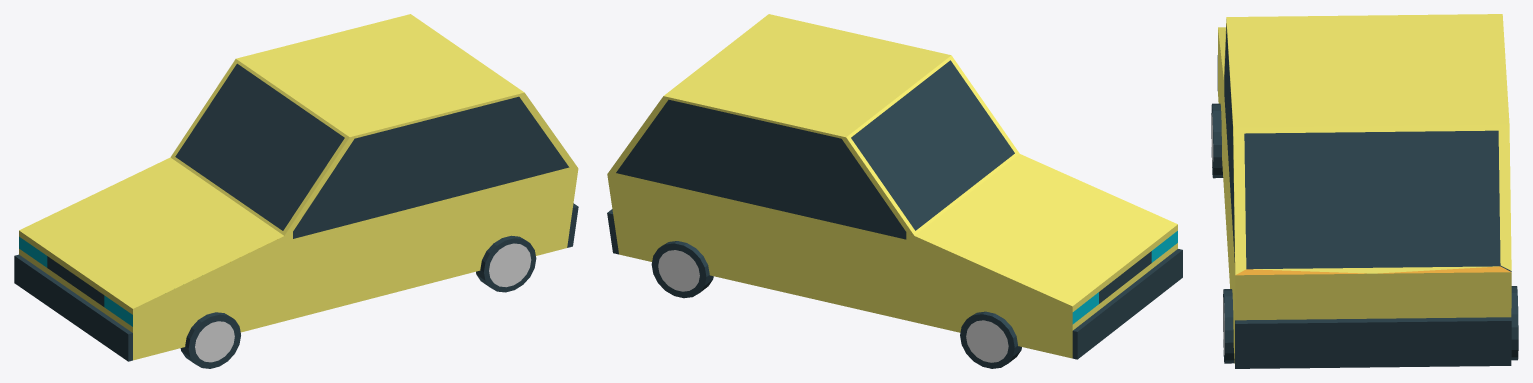
Rendered from car_03_world_ap_0_lev1.glb.
3 views of the same model, side by side, from view 1: azimuth 30°, elevation 25°; view 2: azimuth 150°, elevation 25°; view 3: azimuth 270°, elevation 25° (orthographic). The views are drawn at different scales.
Visible parts, largest first — view 1: car_03_world_ap_0_lev1; view 2: car_03_world_ap_0_lev1; view 3: car_03_world_ap_0_lev1.
Part boxes in pixels (left/top/right/bottom): car_03_world_ap_0_lev1: left=14, top=14, right=578, bottom=368; car_03_world_ap_0_lev1: left=607, top=14, right=1182, bottom=368; car_03_world_ap_0_lev1: left=1211, top=14, right=1518, bottom=368.
Size of the model in its own units: 1.52 by 0.6023 by 0.6882.
1 material, 1 textured.
